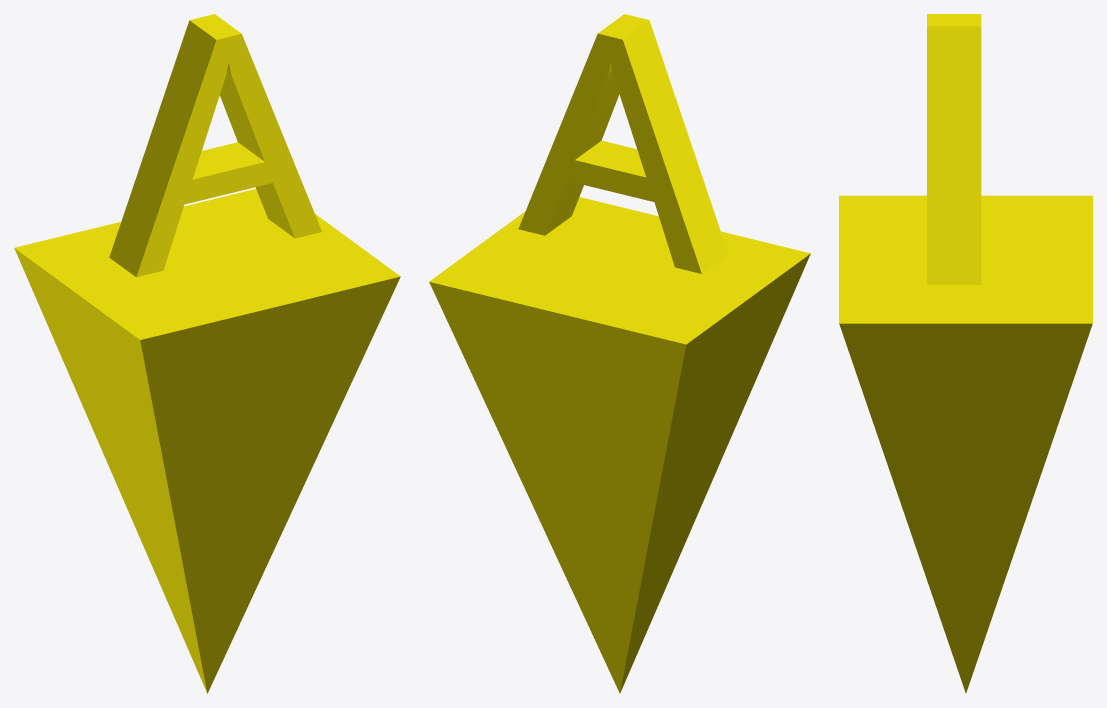
3 renders of one model, left to right at view 1: azimuth 30°, elevation 25°; view 2: azimuth 150°, elevation 25°; view 3: azimuth 270°, elevation 25°, orthographic.
Visible parts, largest first — view 1: mesh_id30, mesh_id42; view 2: mesh_id30, mesh_id42; view 3: mesh_id30, mesh_id42.
Part boxes in pixels (x1=…): mesh_id30: x1=14, y1=189, x2=400, y2=693; mesh_id42: x1=109, y1=14, x2=321, y2=277; mesh_id30: x1=429, y1=197, x2=810, y2=693; mesh_id42: x1=518, y1=14, x2=728, y2=273; mesh_id30: x1=839, y1=195, x2=1092, y2=693; mesh_id42: x1=927, y1=14, x2=981, y2=284.
Bounding box in the file's own units: 0.1565 × 0.3848 × 0.1311.
2 materials, 2 textured.
